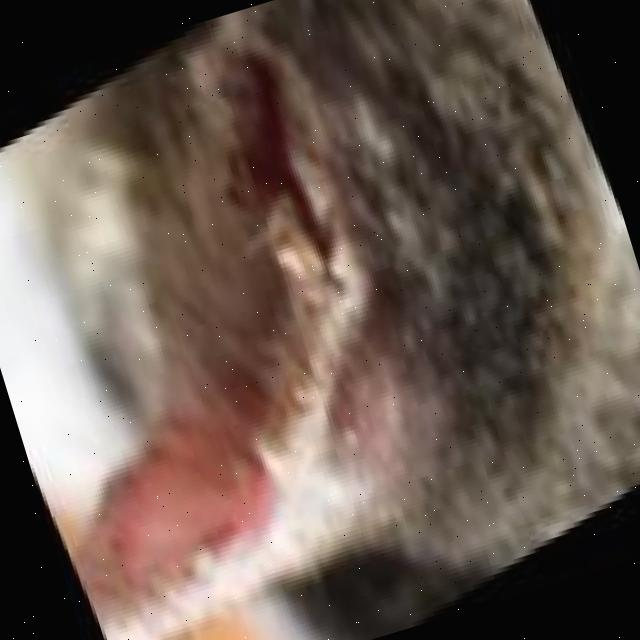cat-ringworm: (216, 72, 336, 268), (104, 441, 268, 577)
